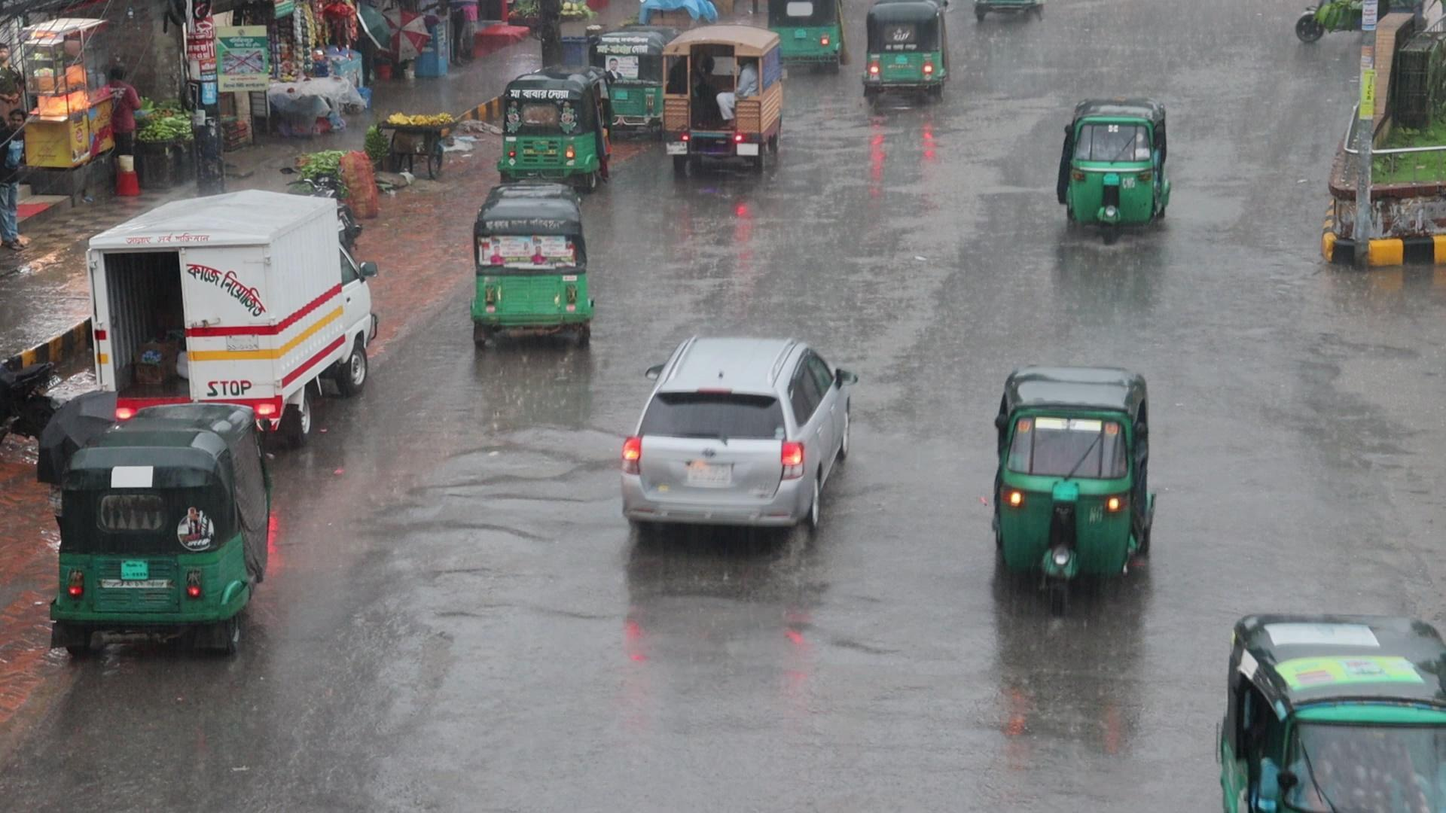Car: (618, 326, 855, 548)
Truck: (661, 20, 788, 182)
